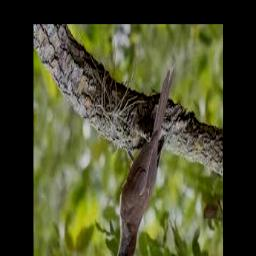Cuckoo: (110, 65, 176, 256)
